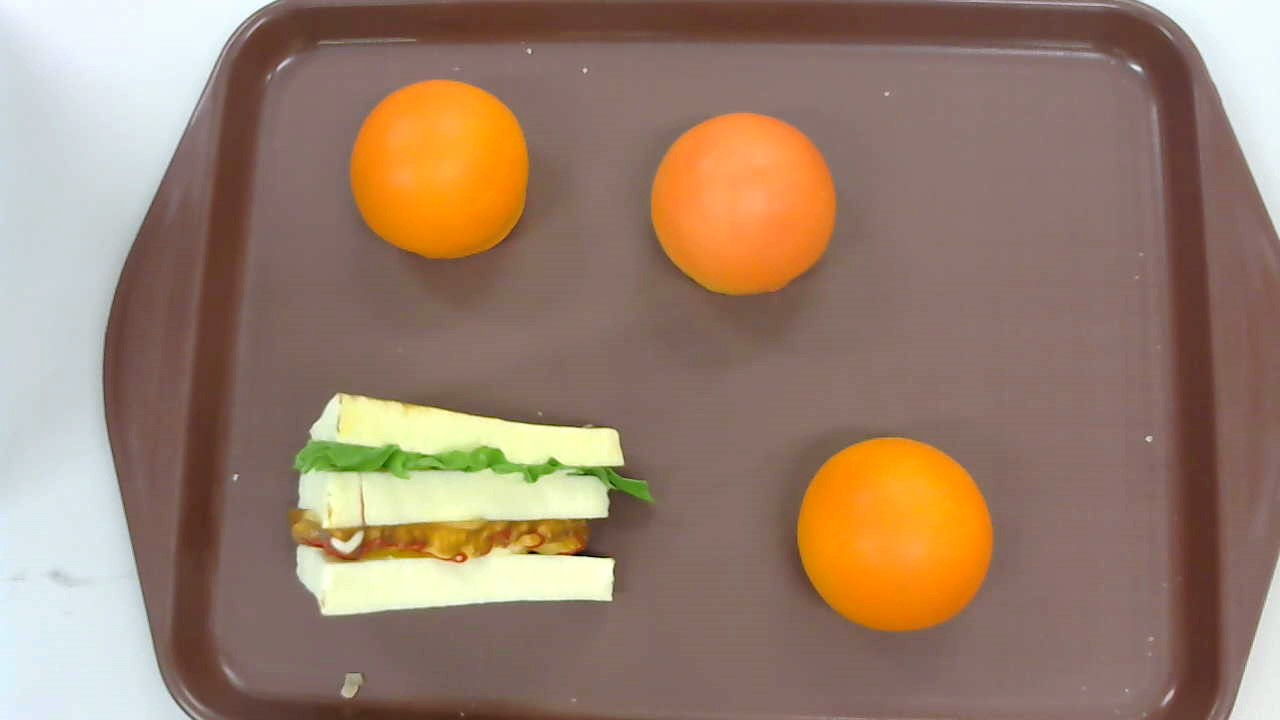bun: (796, 437, 994, 632), (650, 111, 835, 296), (350, 78, 528, 262)
sandwich: (291, 391, 657, 617)
